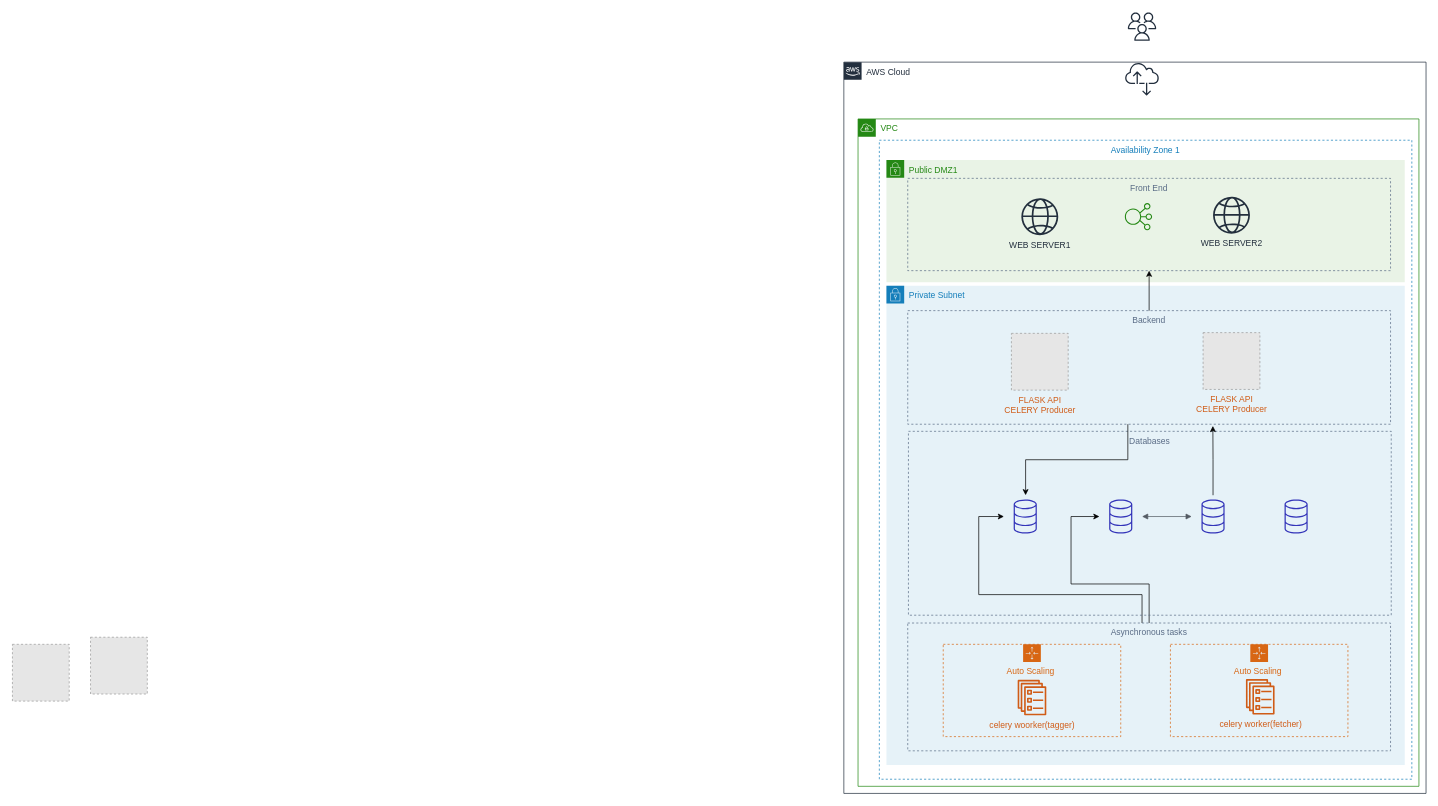
Image size: 1438x806. Some labels were removed from this diagram. Grey dashed boxes stand in for pictures. Each missing label, with the centre of its shape:
"Elastic Load Balancer" belongs at (1138,216).
"Internet Gateway" belongs at (1142,79).
"MYSQAL MASTER" belongs at (1120,516).
"MYSQL SLAVE" belongs at (1212,516).
"REDIS" belongs at (1025,516).
"S3" belongs at (1295,516).
"Users" belongs at (1141,26).
